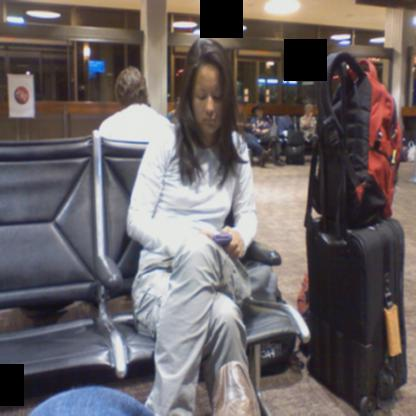backpack: (310, 49, 401, 232)
handbag: (283, 130, 303, 146)
suitcase: (304, 217, 409, 416), (285, 145, 305, 165)
